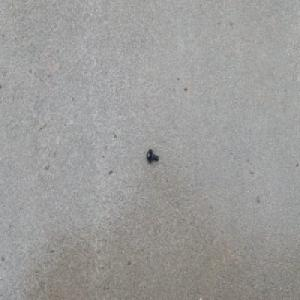BoltWasher: (146, 148, 159, 163)
